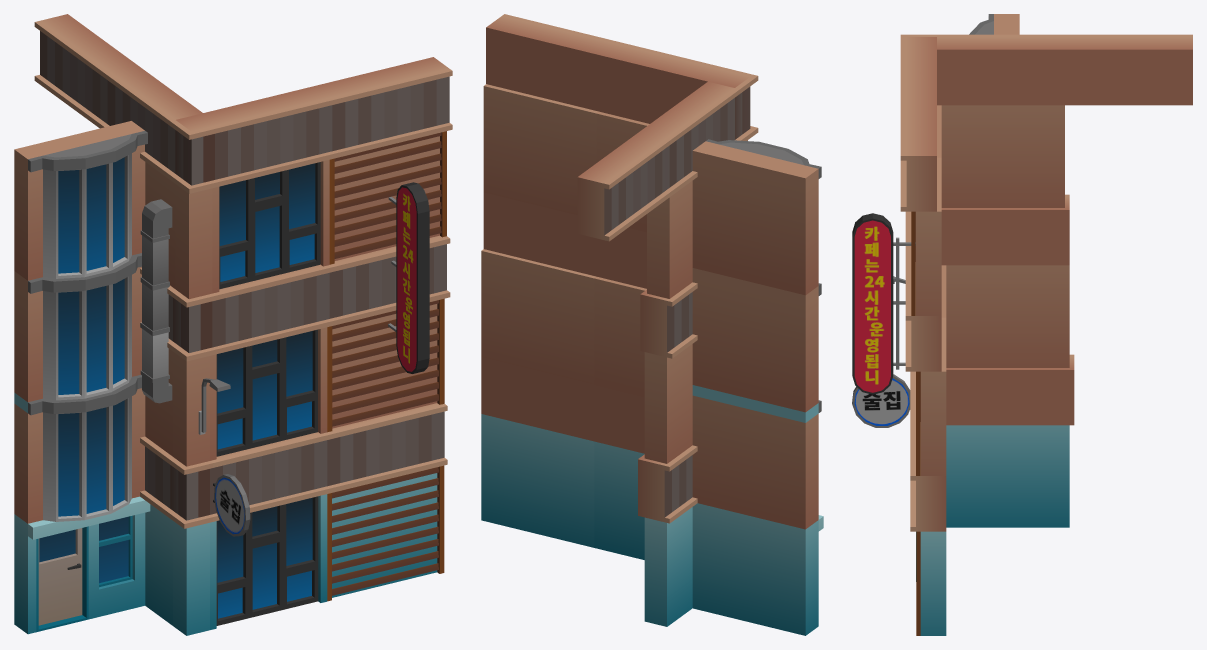
The model's file is B02_Facade-8-B.fbx.
3 renders of one model, left to right at view 1: azimuth 30°, elevation 25°; view 2: azimuth 150°, elevation 25°; view 3: azimuth 270°, elevation 25°, orthographic. The views are drawn at different scales.
Visible parts, largest first — view 1: B02_Facade-8-B; view 2: B02_Facade-8-B; view 3: B02_Facade-8-B.
Boxes of the visible parts, bbox=[...] form: B02_Facade-8-B: bbox=[14, 14, 452, 635]; B02_Facade-8-B: bbox=[481, 14, 823, 635]; B02_Facade-8-B: bbox=[852, 14, 1192, 635].
Bounding box in the file's own units: 1200 × 1551 × 998.
